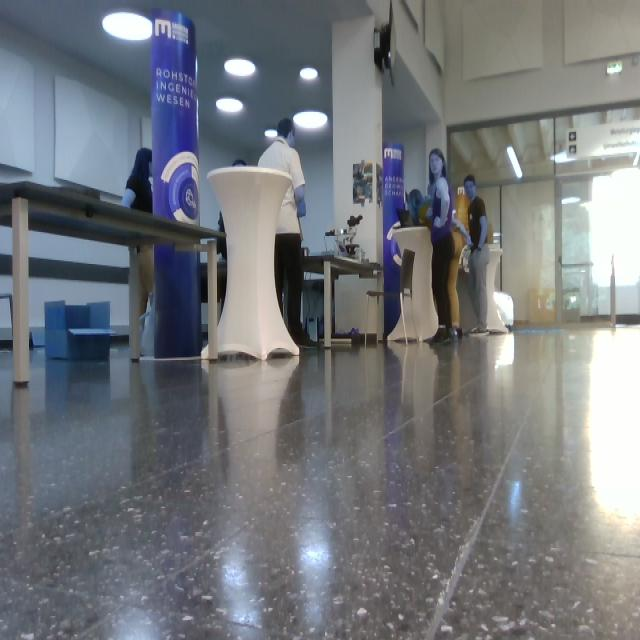door: (501, 178, 557, 325)
light bulb: (102, 9, 153, 42), (293, 111, 328, 131), (224, 58, 256, 77), (507, 146, 523, 180), (216, 97, 244, 113), (300, 66, 318, 81), (606, 61, 623, 74), (265, 129, 278, 138)
person: (258, 118, 319, 349), (424, 149, 456, 344), (464, 175, 490, 335)
pillar: (150, 8, 202, 360), (207, 165, 300, 361)
staircase: (1, 180, 227, 376)
tiled floor: (1, 324, 639, 638)
